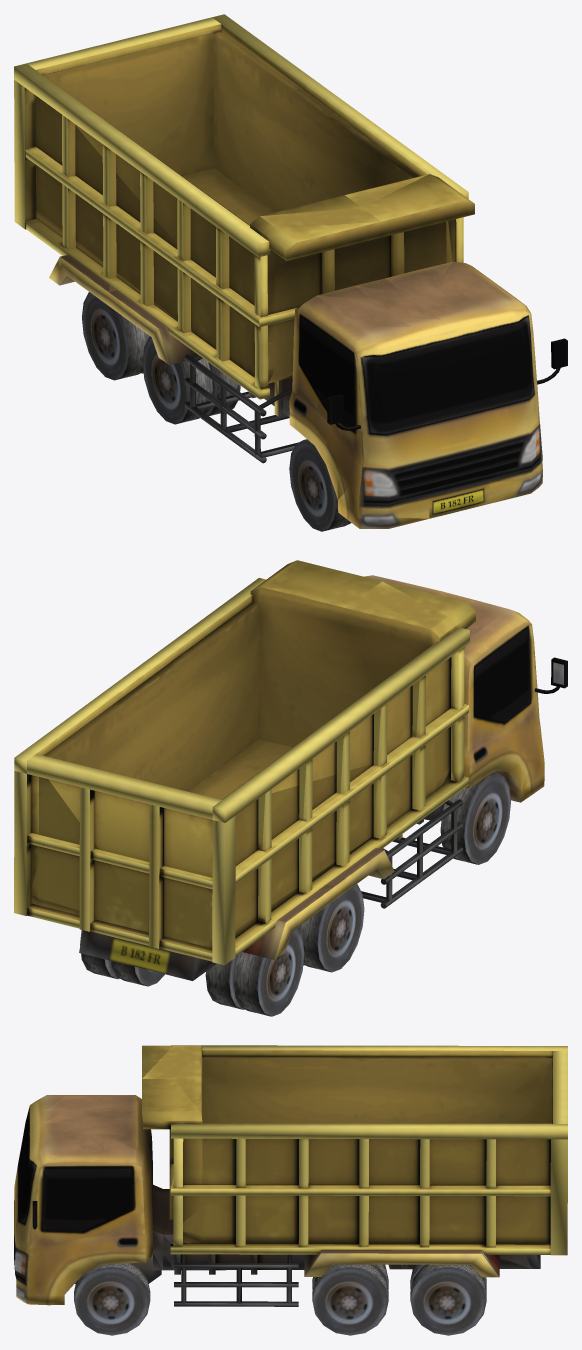
The model's file is truck.glb.
3 renders of one model, top to bottom at view 1: azimuth 30°, elevation 25°; view 2: azimuth 150°, elevation 25°; view 3: azimuth 270°, elevation 25°, orthographic. The views are drawn at different scales.
Visible parts, largest first — view 1: Object_3; view 2: Object_3; view 3: Object_3.
Part boxes in pixels (left/top/right/bottom): Object_3: left=14, top=14, right=567, bottom=531; Object_3: left=14, top=560, right=567, bottom=1016; Object_3: left=14, top=1045, right=567, bottom=1335.
Size of the model in its own units: 3.34 by 3.66 by 8.3.
1 material, 1 textured.
